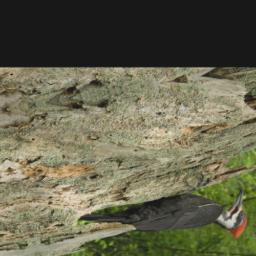Woodpecker: (68, 166, 256, 256)
